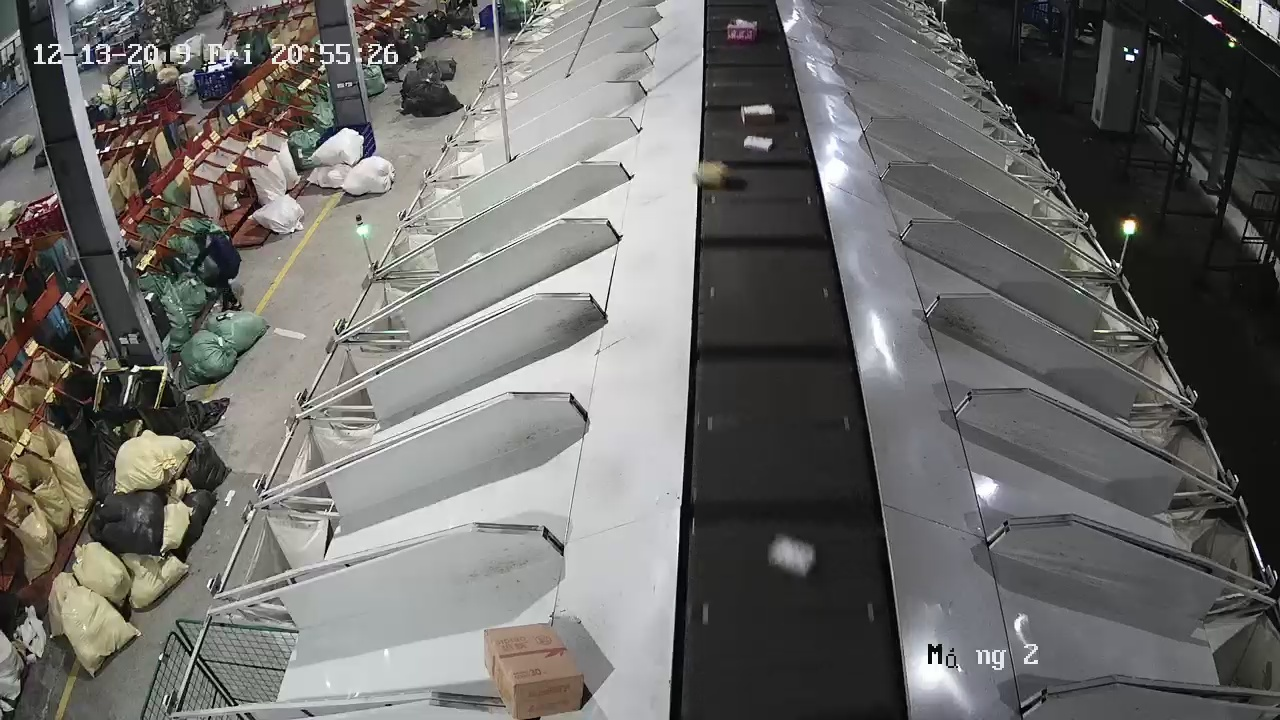parcel: (692, 159, 729, 189)
